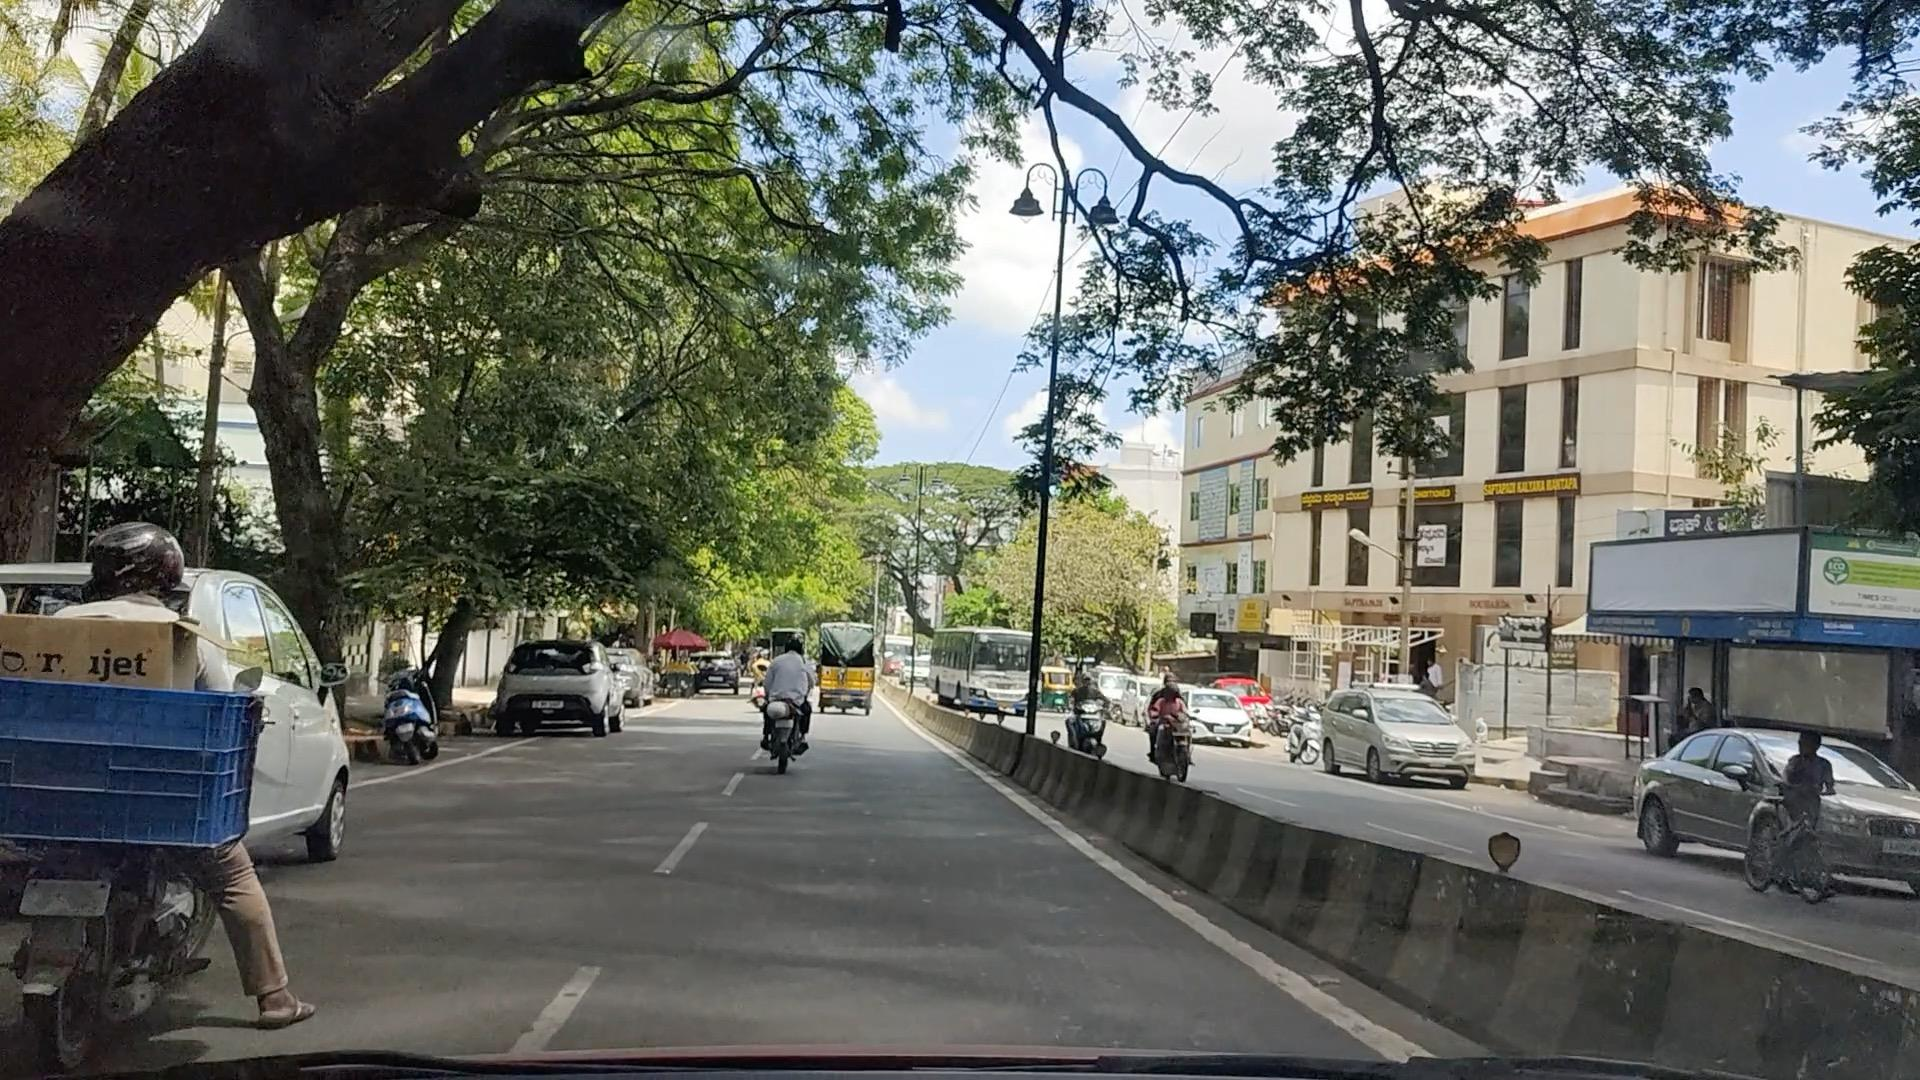LMV: (5, 500, 253, 1080), (484, 637, 615, 727), (753, 624, 815, 767), (377, 674, 454, 769)
